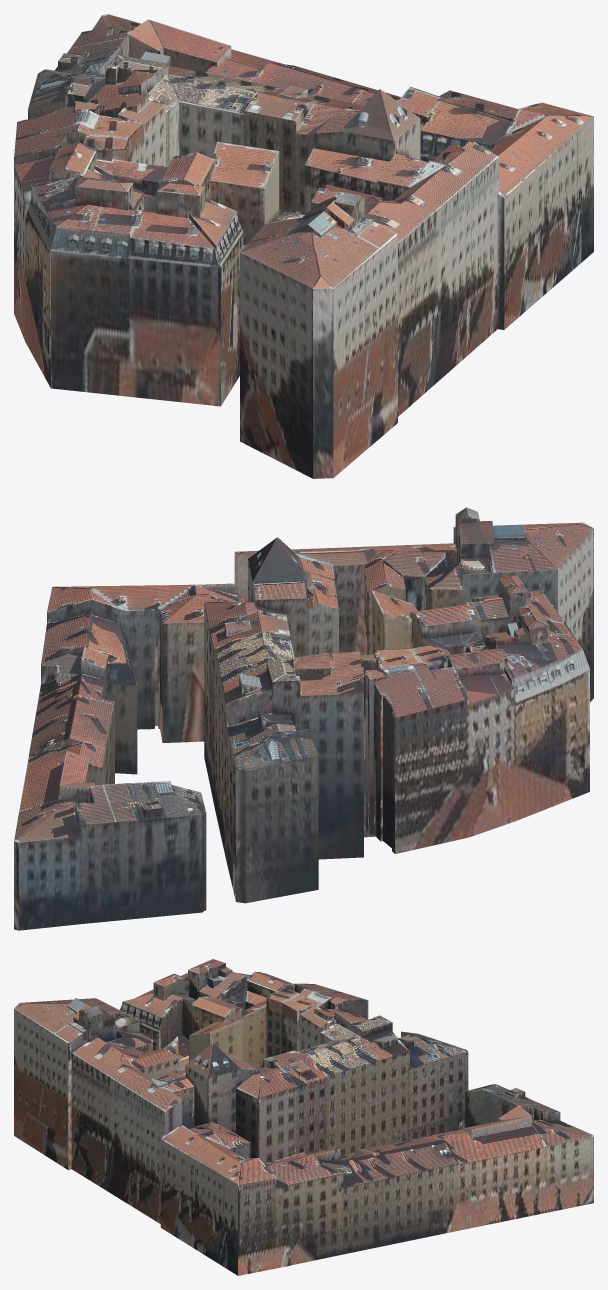
File: LYON_1ER_00134.dae
3 renders of one model, top to bottom at view 1: azimuth 30°, elevation 25°; view 2: azimuth 150°, elevation 25°; view 3: azimuth 270°, elevation 25°, orthographic. The views are drawn at different scales.
Bounding box in the file's own units: 108 × 141 × 42.22.
2 materials, 2 textured.
